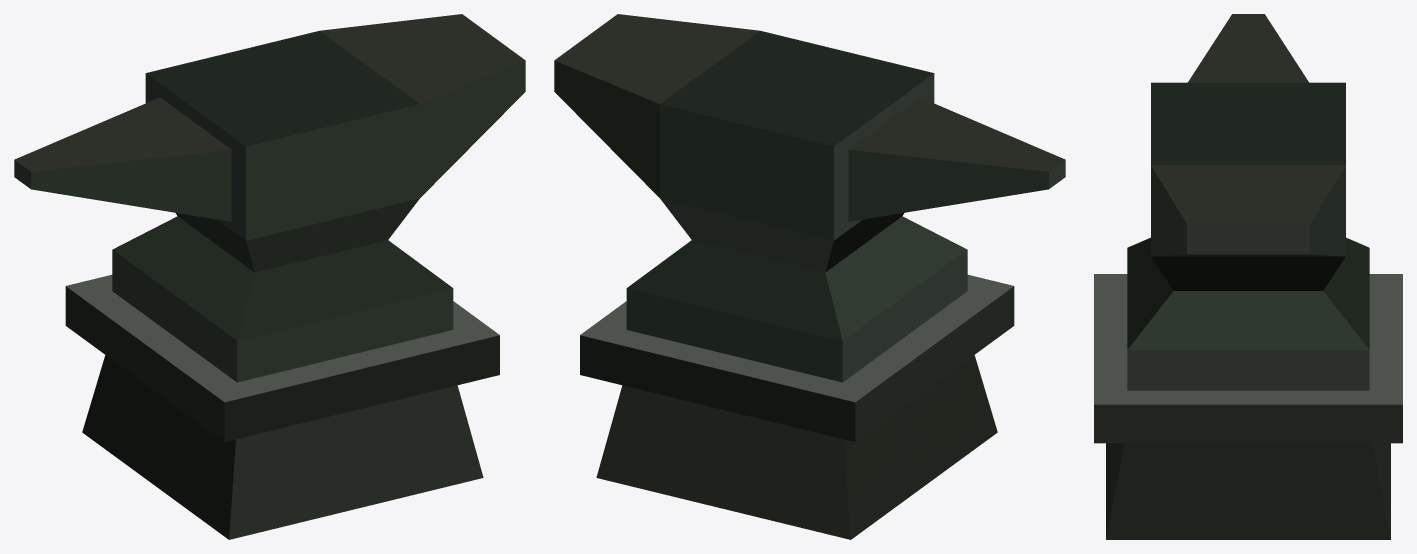
File: SF_Prop_Anvil_01.glb
The picture shows the model from 3 angles, left to right: view 1: azimuth 30°, elevation 25°; view 2: azimuth 150°, elevation 25°; view 3: azimuth 270°, elevation 25°; orthographic projection. The views are drawn at different scales.
Parts seen in each view (by area): view 1: SF_Prop_Anvil_01; view 2: SF_Prop_Anvil_01; view 3: SF_Prop_Anvil_01.
Part boxes in pixels (box(x1,y1,x2,y2)): SF_Prop_Anvil_01: box(14, 14, 525, 539); SF_Prop_Anvil_01: box(554, 14, 1065, 539); SF_Prop_Anvil_01: box(1094, 14, 1402, 539).
Size of the model in its own units: 0.0188 by 0.0139 by 0.011.
1 material, 1 textured.
